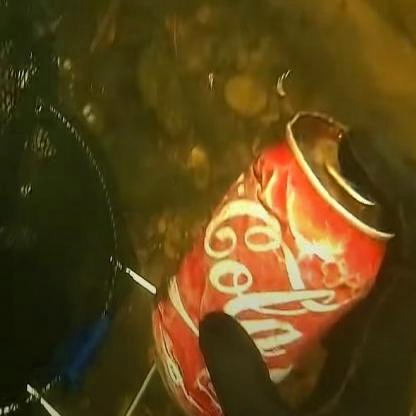can: (158, 99, 370, 386)
